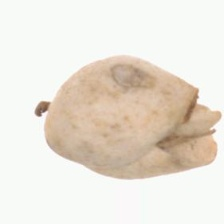L1: (159, 87, 222, 168), (33, 95, 52, 145)
L2: (33, 54, 223, 181)
